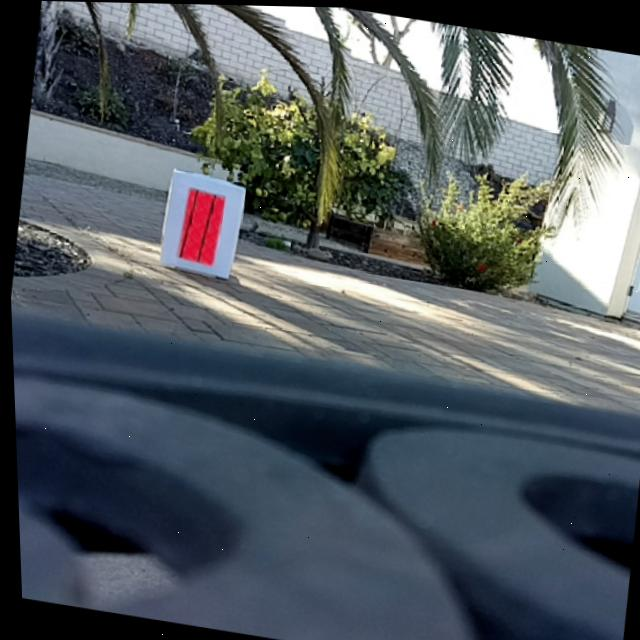led: (172, 182, 227, 269)
